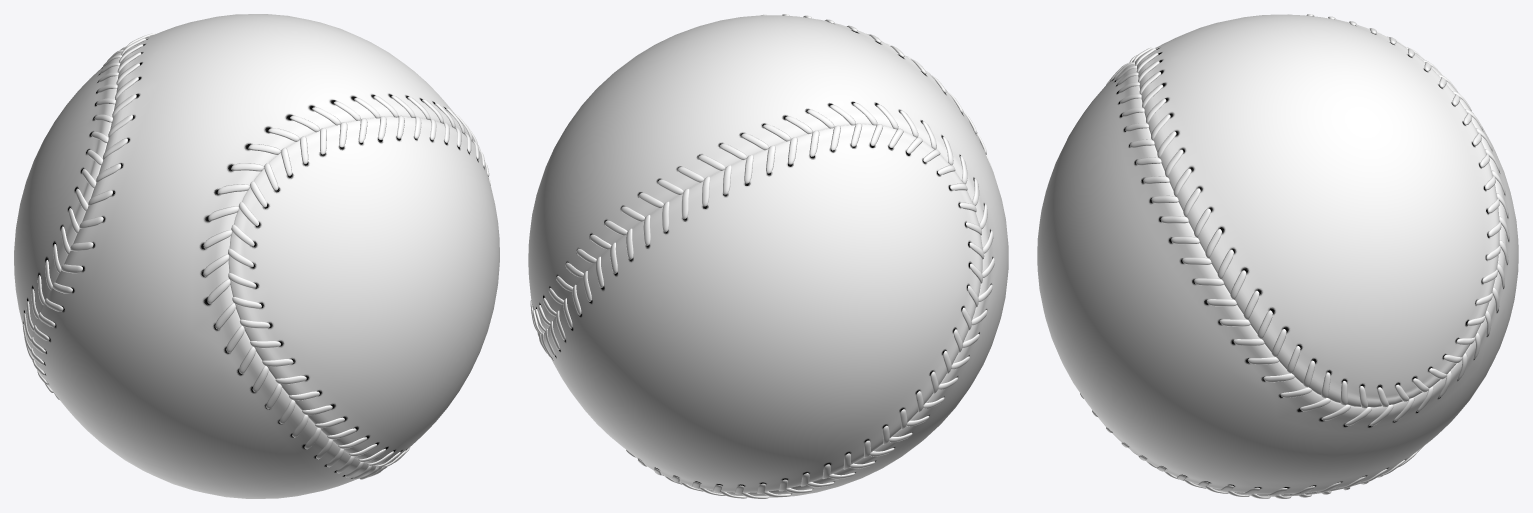
The model's file is ballball2.glb.
The picture shows the model from 3 angles, left to right: view 1: azimuth 30°, elevation 25°; view 2: azimuth 150°, elevation 25°; view 3: azimuth 270°, elevation 25°; orthographic projection.
Visible parts, largest first — view 1: baseball.001; view 2: baseball.001; view 3: baseball.001.
Part boxes in pixels (x1,y1,x2,y2): baseball.001: (14,14,499,498); baseball.001: (528,14,1008,498); baseball.001: (1037,14,1518,498).
Size of the model in its own units: 1.02 by 0.9997 by 1.
Materials: 2 (1 with a texture image).
